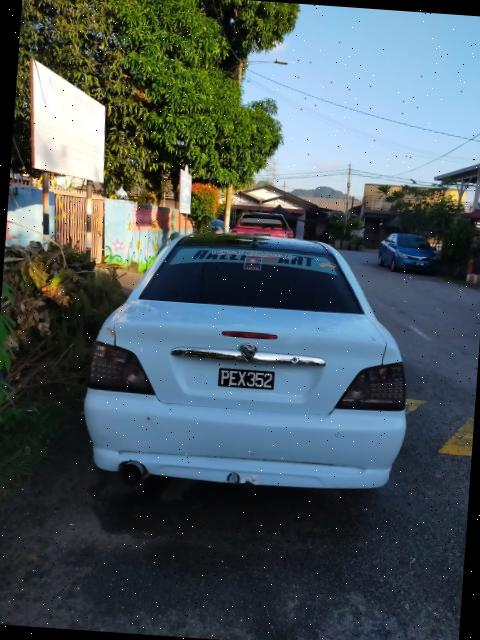License_Plate: (212, 363, 283, 398)
car: (79, 211, 423, 503)
